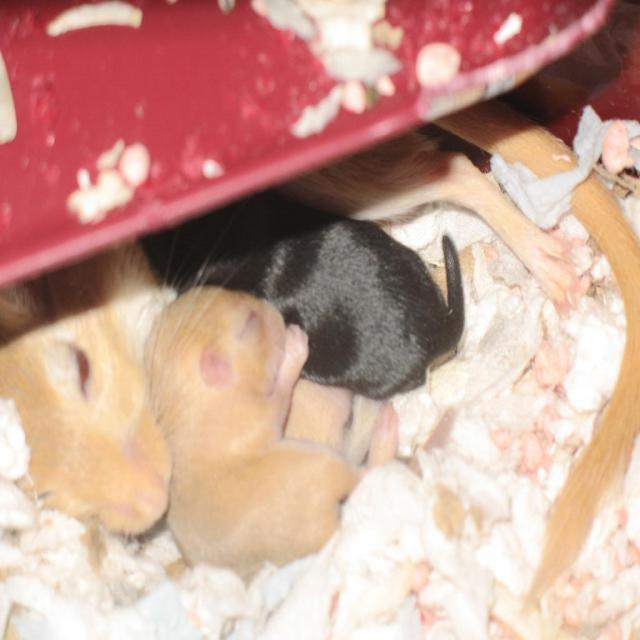rat: (286, 100, 640, 608), (144, 288, 396, 576), (143, 176, 464, 395), (0, 236, 176, 537)
